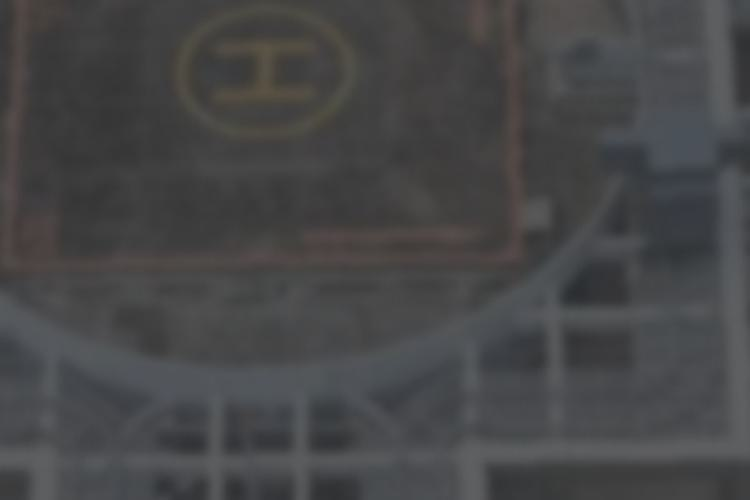Apron: (169, 8, 374, 154)
